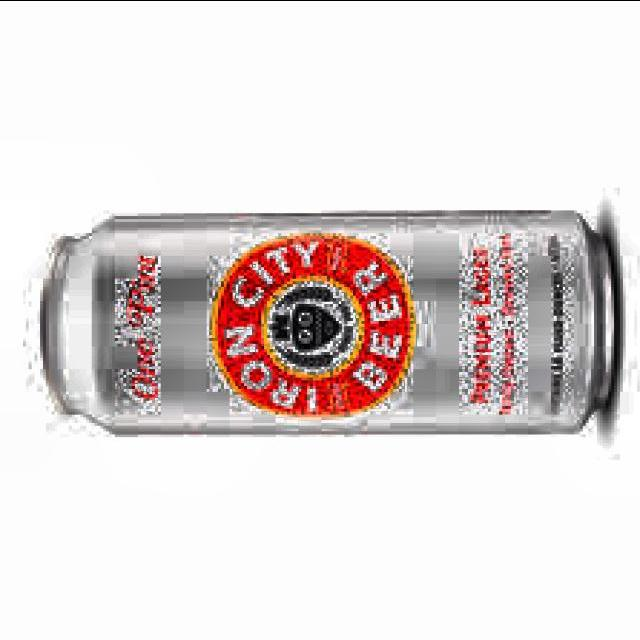Aluminum Can: (31, 199, 628, 442)
